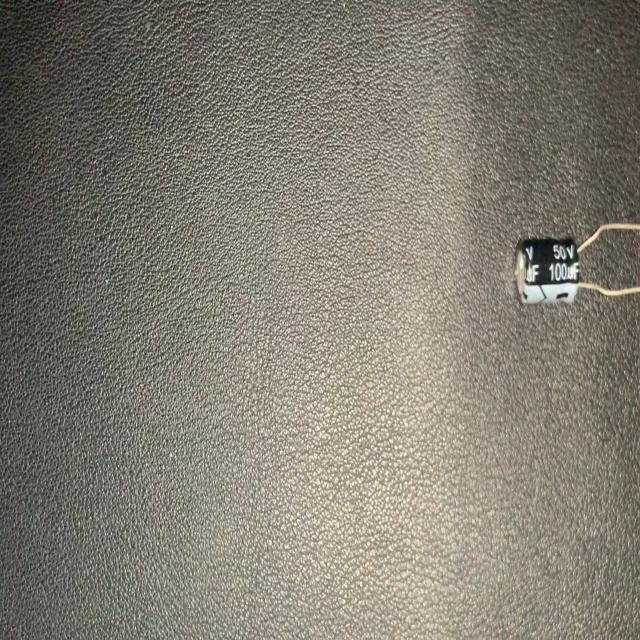capacitor: (510, 218, 640, 314)
